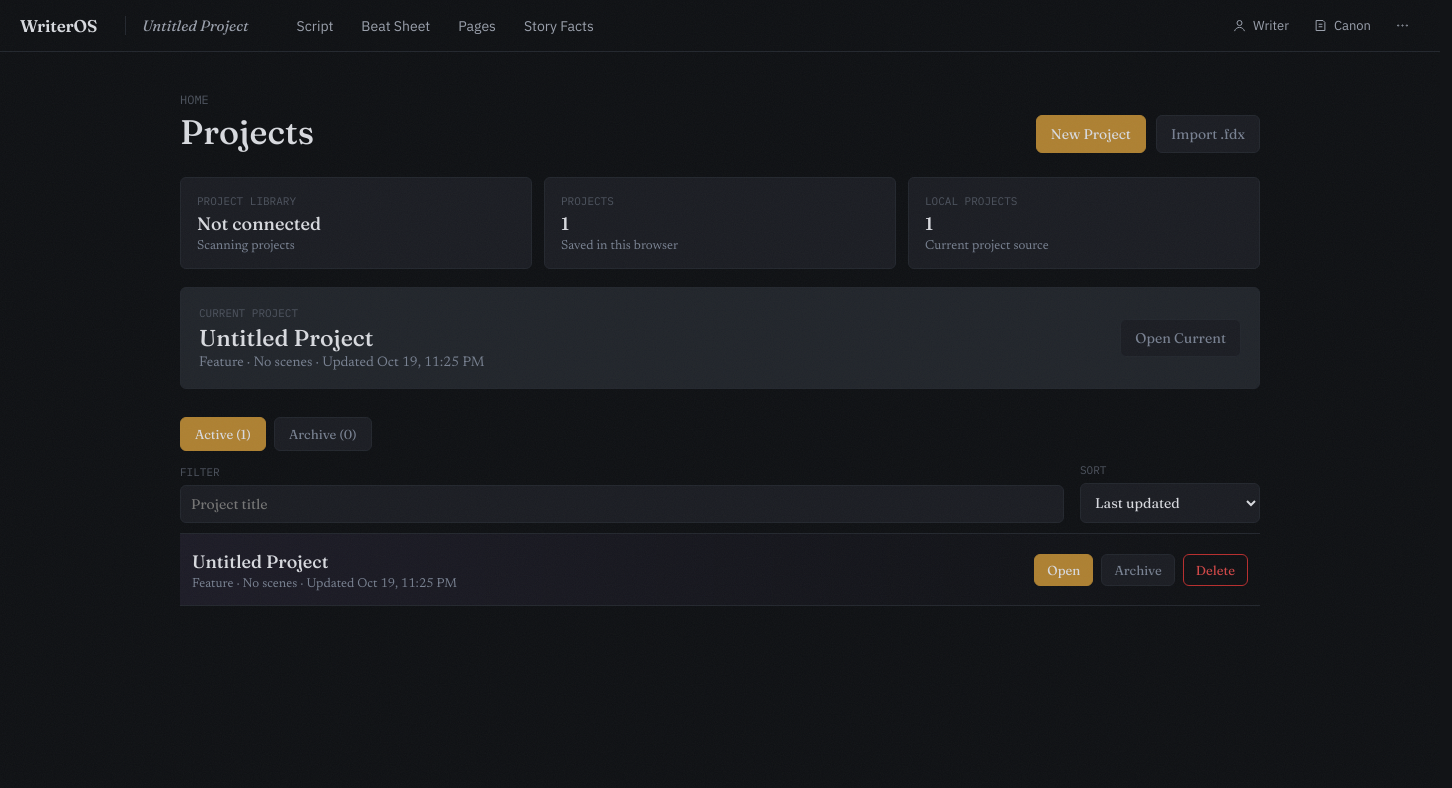
Test case: App Writer's Room layout › shows voice controls and the room together on Writer
This screenshot has width=1452, height=788.
Click the tab "Beat Sheet" at (396, 26), box [349,10,442,42]
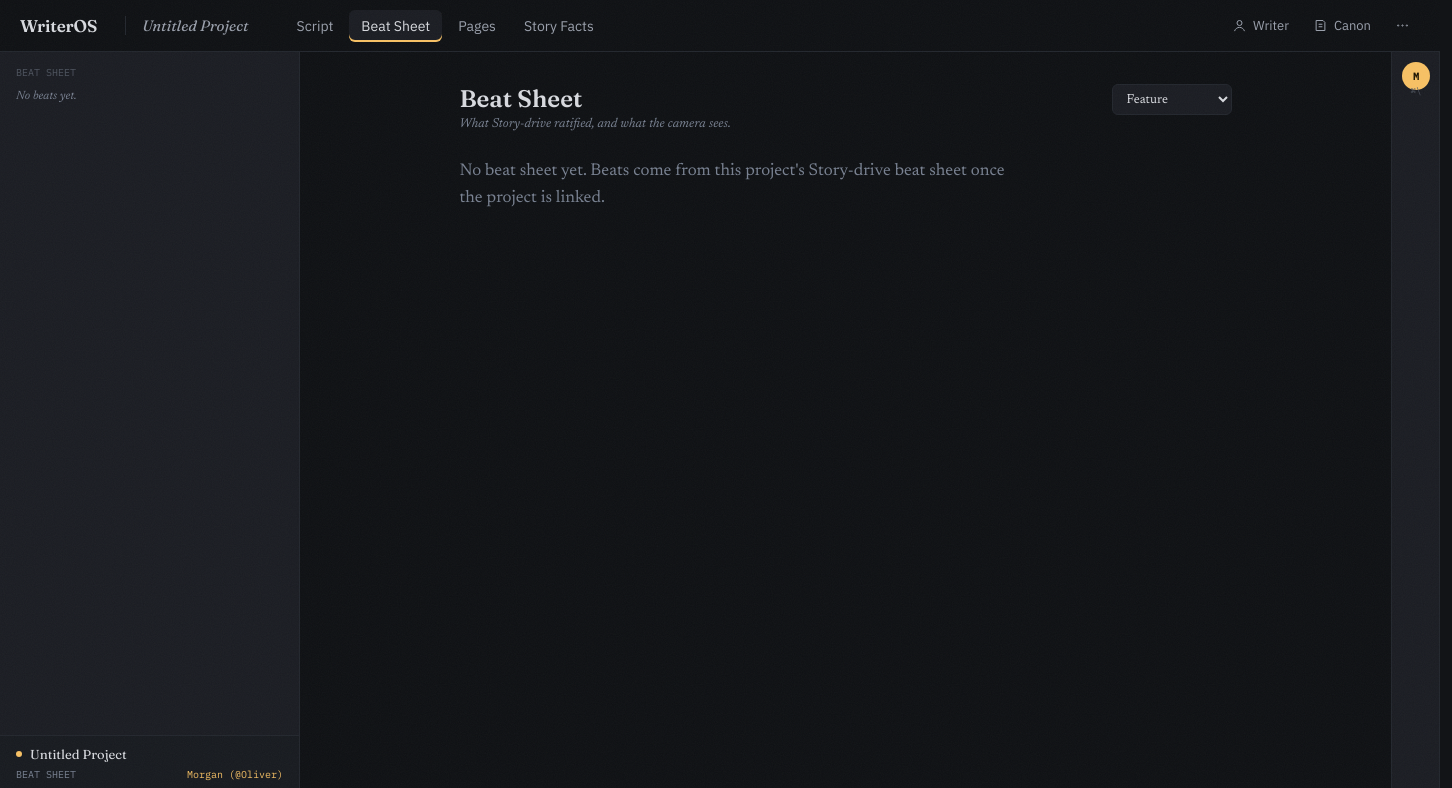
expect the heading "Beat Sheet" is shown: met, box [460,84,582,113]
Click the button "Writer" at (1260, 26), box [1222,11,1299,40]
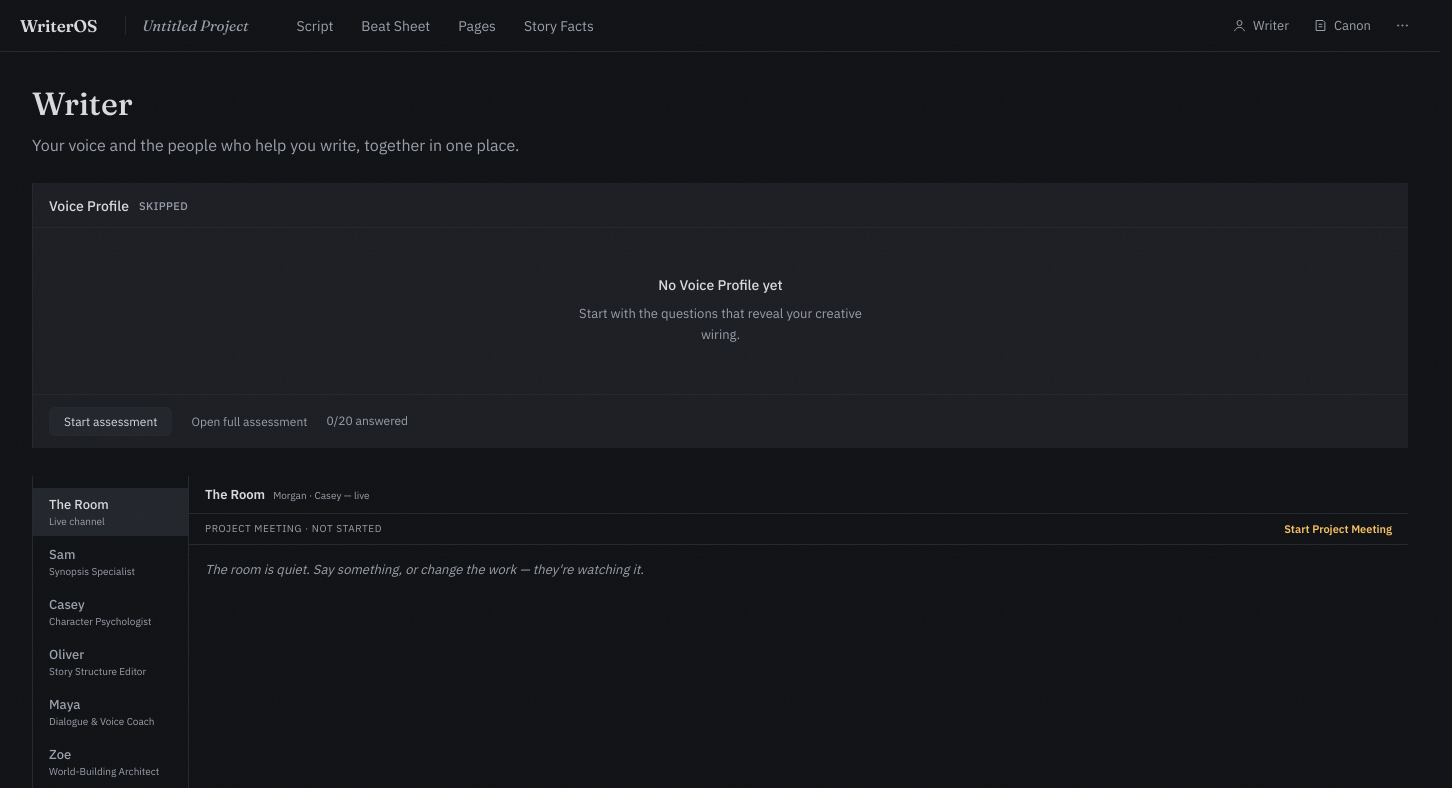
expect the heading "Writer" is shown: met, box [32,84,133,123]
expect the element labelled "Voice Profile" is shown: met, box [32,183,1408,448]
Click the text "Oliver" at (67, 654), box [49,646,84,663]
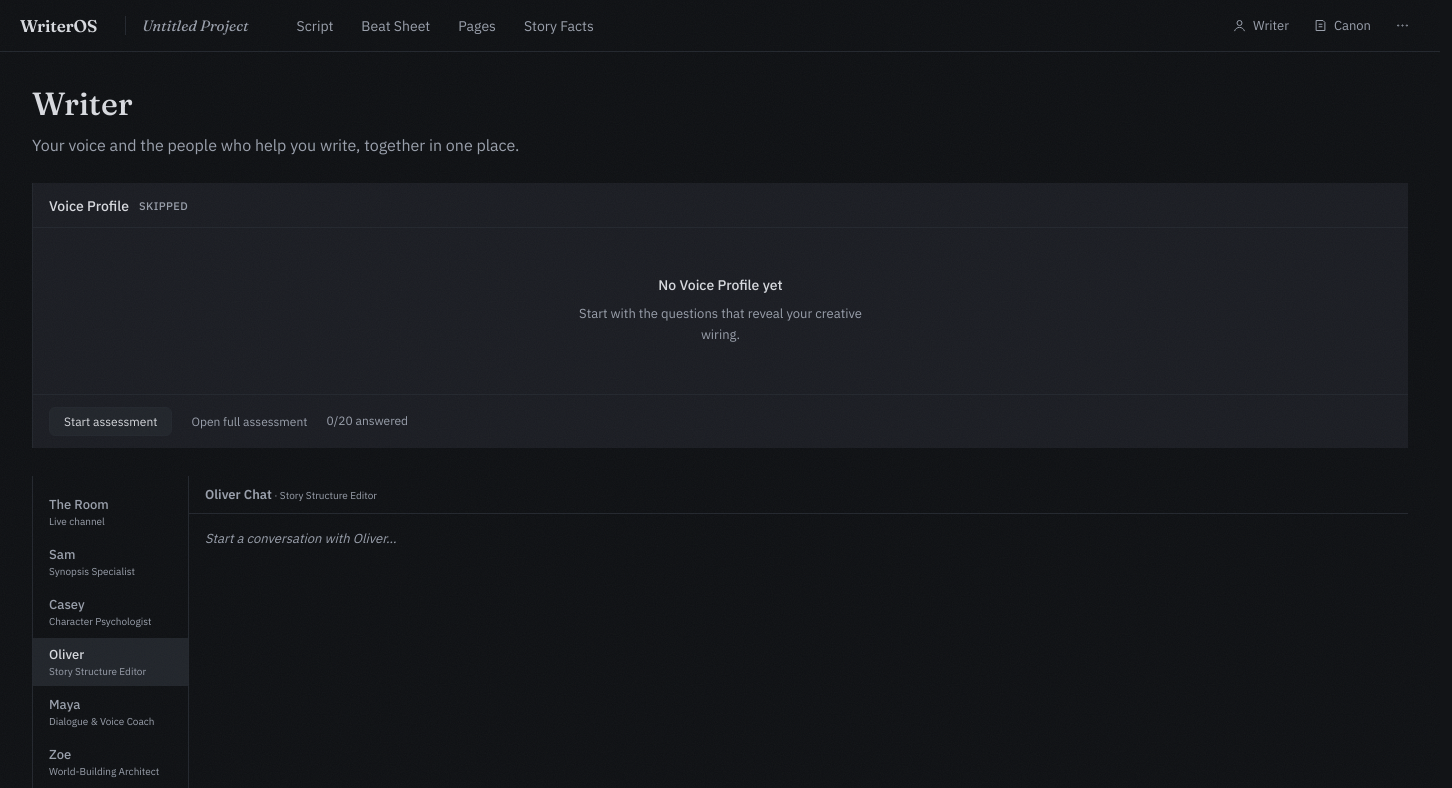
expect the text "Oliver Chat" is shown: met, box [205,486,377,503]
